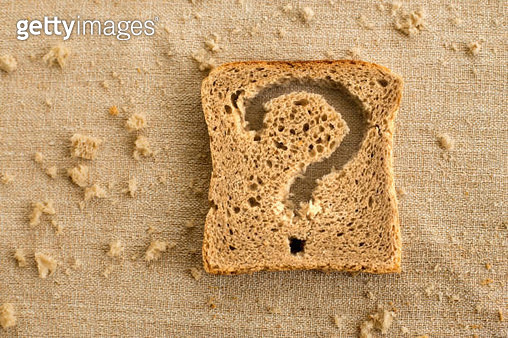slice of bread: (204, 51, 406, 277)
